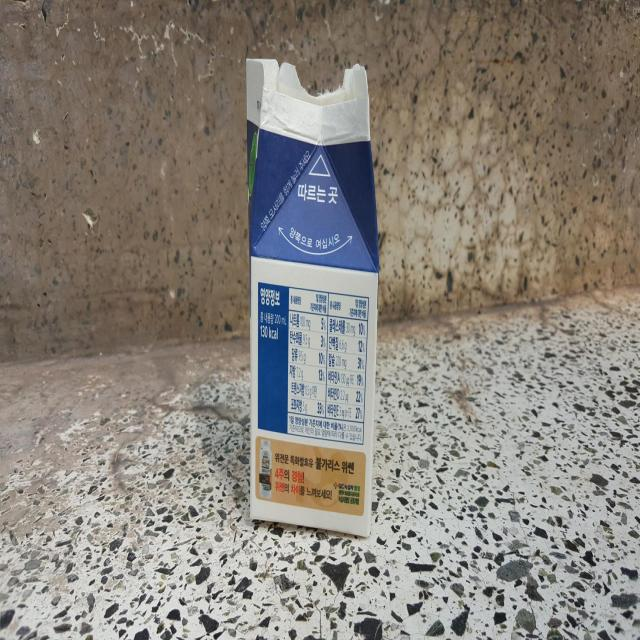paperpack: (247, 57, 379, 537)
